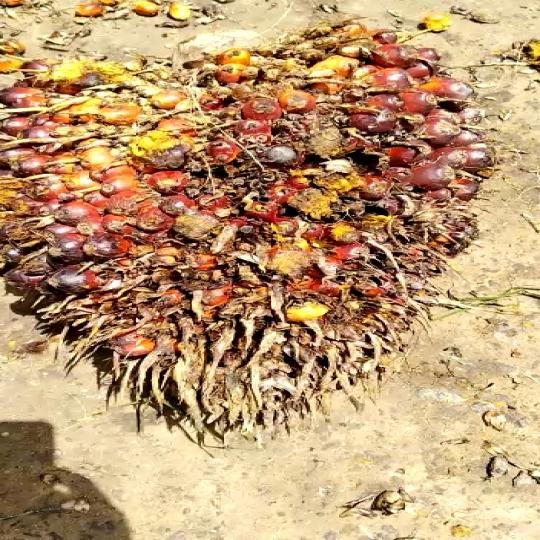masak: (0, 10, 497, 451)
